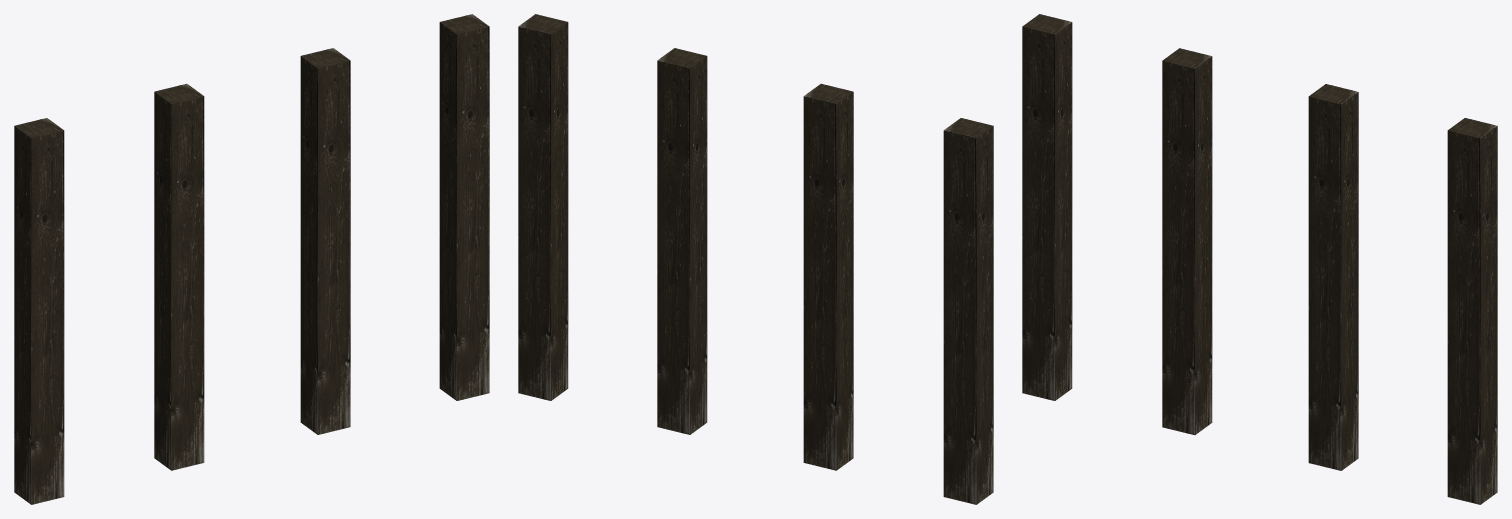
Rendered from WoodColumn02.FBX.
3 renders of one model, left to right at view 1: azimuth 30°, elevation 25°; view 2: azimuth 150°, elevation 25°; view 3: azimuth 330°, elevation 25°, orthographic.
Visible parts, largest first — view 1: WoodColumn01; view 2: WoodColumn01; view 3: WoodColumn01.
Part boxes in pixels (bbox=[...]): WoodColumn01: bbox=[14, 14, 489, 504]; WoodColumn01: bbox=[518, 14, 993, 504]; WoodColumn01: bbox=[1022, 14, 1497, 504].
Size of the model in its own units: 458 by 350 by 29.94.
